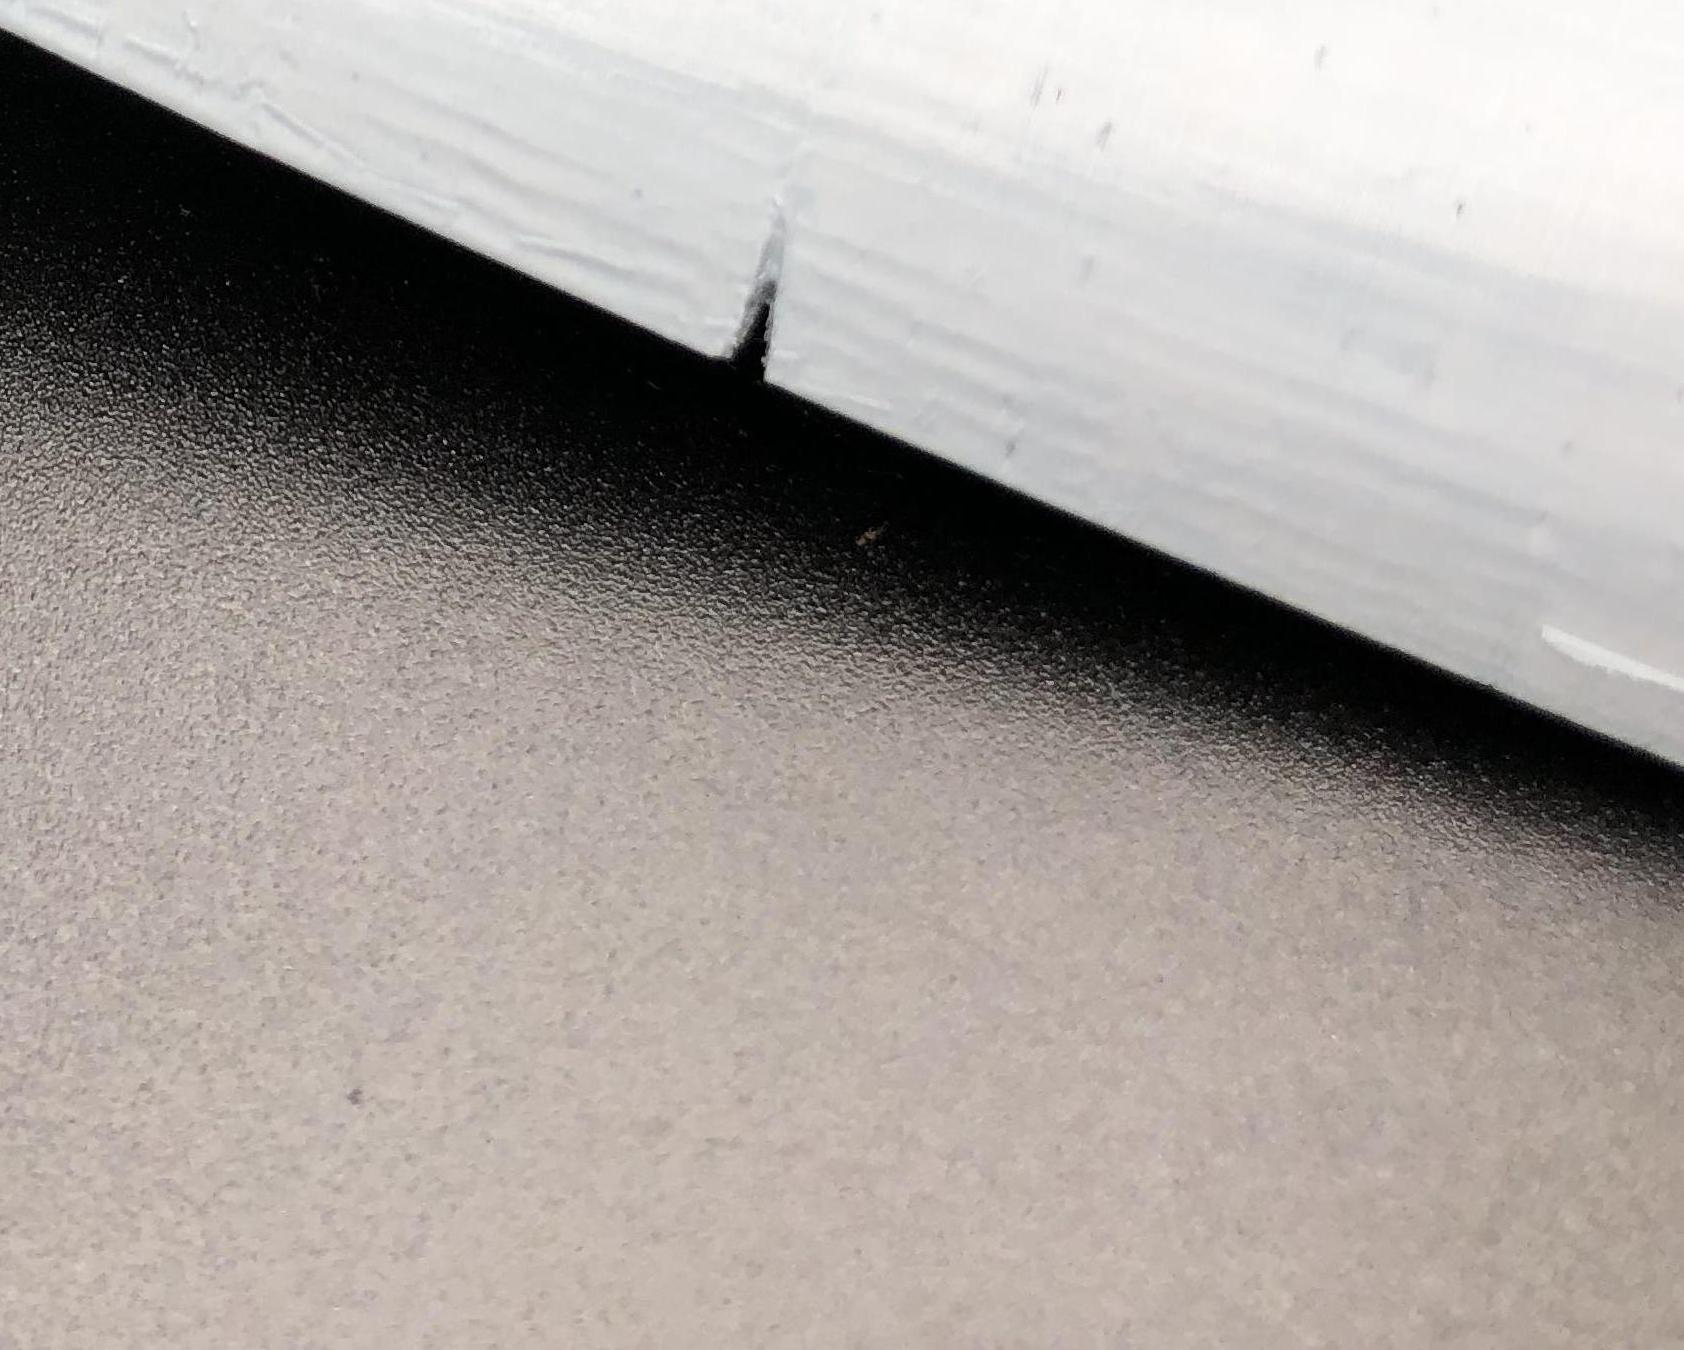groove: (712, 211, 821, 387)
